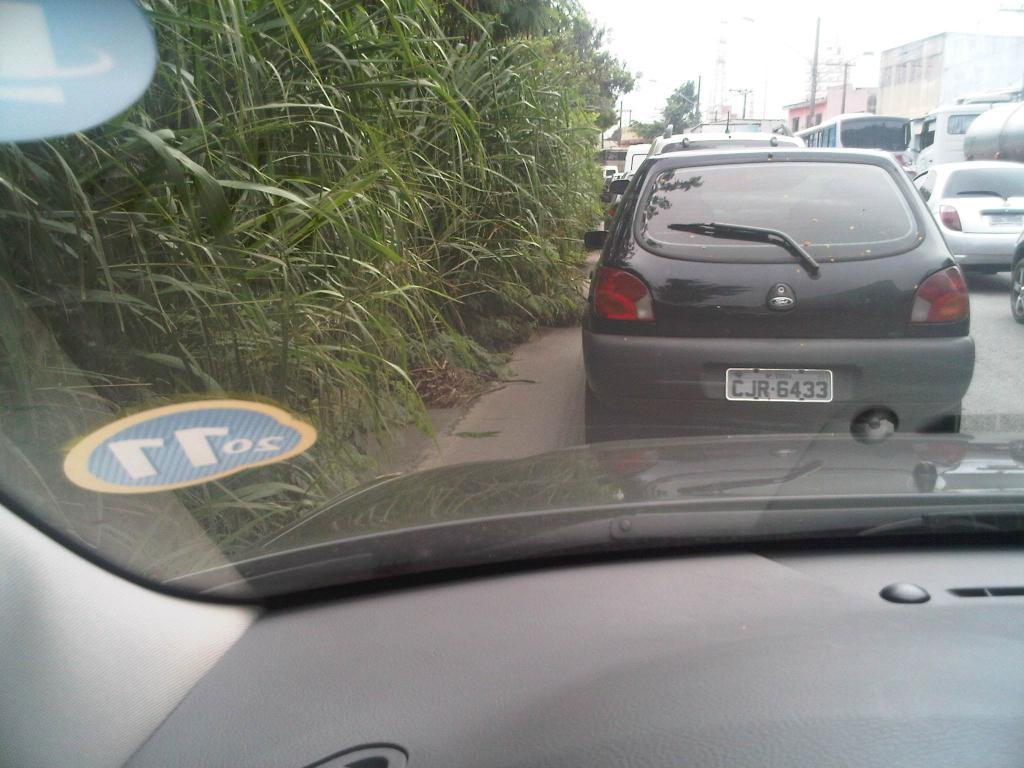Bus: (778, 100, 921, 167)
Car: (566, 144, 1000, 433), (912, 123, 1024, 317)
Number plate: (717, 361, 836, 413)
